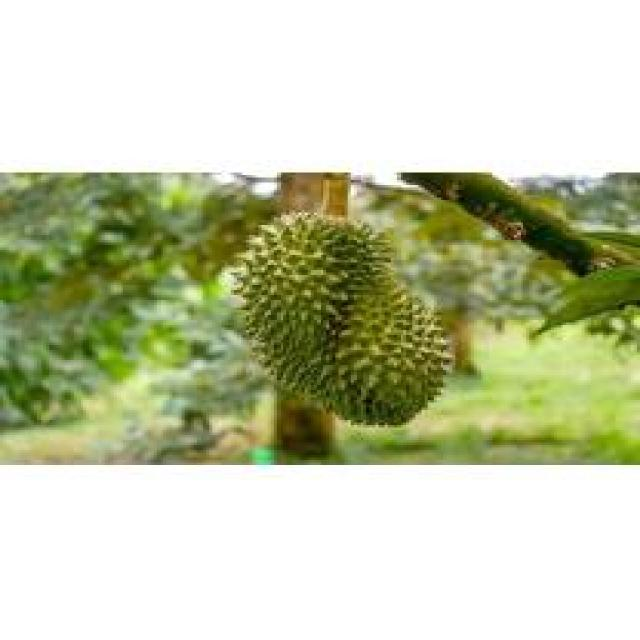fruit: (216, 200, 458, 435)
